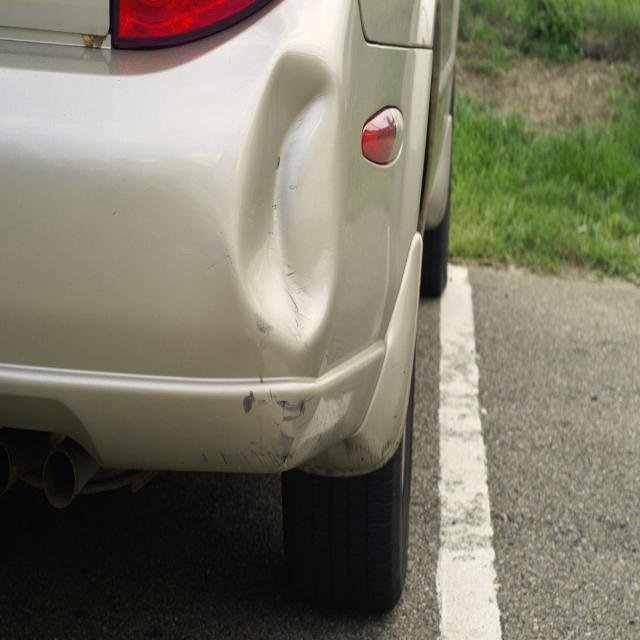dent: (230, 50, 346, 365)
scratch: (219, 416, 286, 473), (278, 253, 314, 345), (276, 393, 320, 423), (243, 391, 268, 414), (253, 312, 274, 338), (202, 452, 210, 465), (269, 389, 276, 400), (289, 183, 297, 192), (275, 156, 280, 170), (259, 375, 263, 384), (271, 204, 277, 210), (268, 231, 274, 235)
tear: (280, 427, 295, 465)
